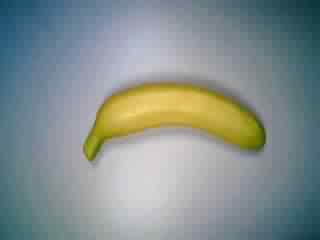banana: (79, 78, 274, 171)
